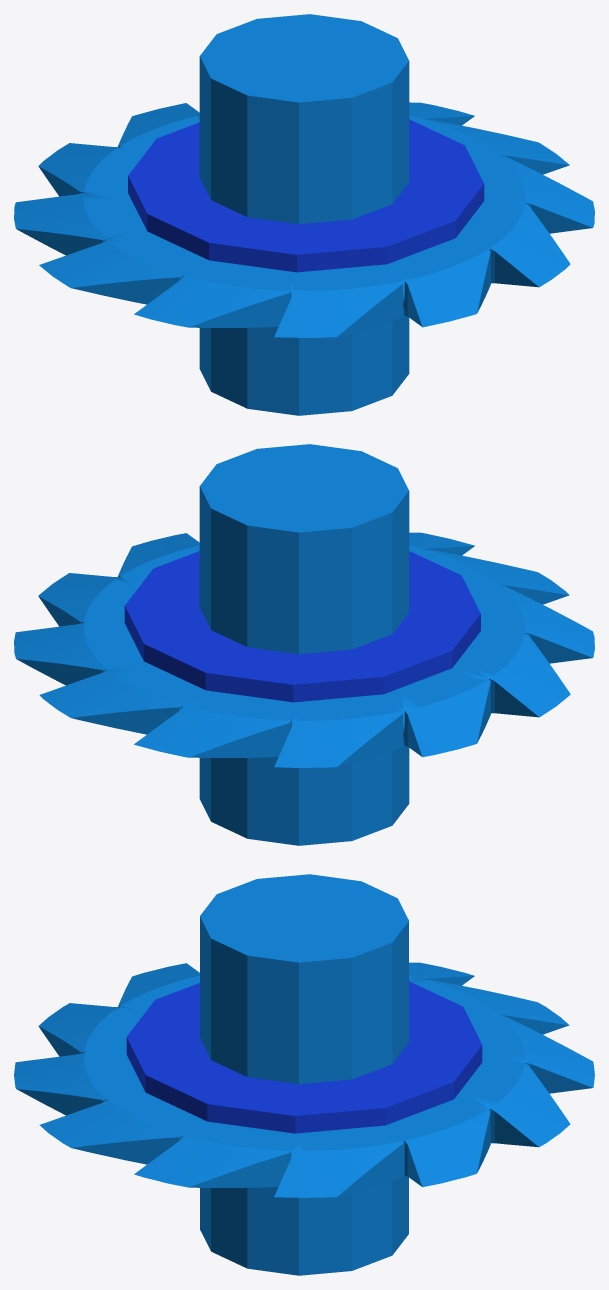
3 views of the same model, one above another, from view 1: azimuth 30°, elevation 25°; view 2: azimuth 150°, elevation 25°; view 3: azimuth 270°, elevation 25° (orthographic).
Visible parts, largest first — view 1: blade_core, shaft, collar; view 2: blade_core, shaft, collar; view 3: blade_core, shaft, collar.
Boxes of the visible parts, box(x1,y1,x2,y2) form: blade_core: box(14, 102, 594, 337); shaft: box(199, 14, 409, 415); collar: box(128, 119, 484, 272); blade_core: box(14, 532, 594, 767); shaft: box(199, 444, 409, 845); collar: box(124, 551, 480, 702); blade_core: box(14, 962, 594, 1197); shaft: box(200, 874, 408, 1275); collar: box(126, 981, 482, 1133).
Bounding box in the file's own units: 0.3 × 0.1784 × 0.3.
